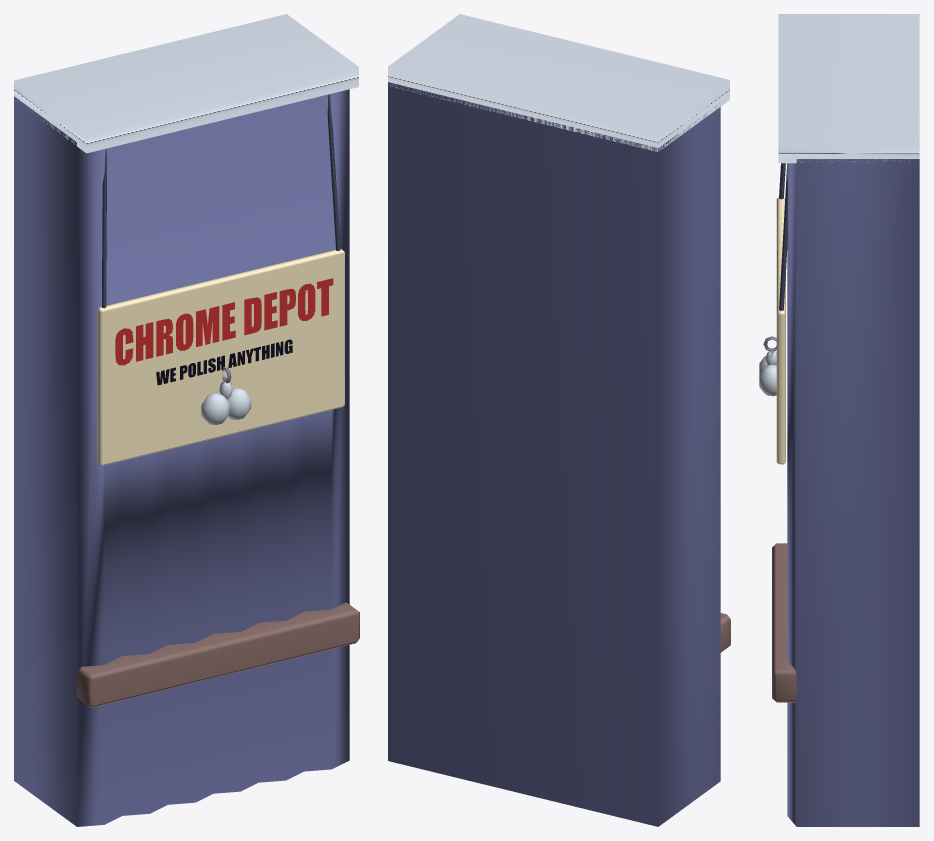
File: wall_barn_banner.glb
The picture shows the model from 3 angles, left to right: view 1: azimuth 30°, elevation 25°; view 2: azimuth 150°, elevation 25°; view 3: azimuth 270°, elevation 25°; orthographic projection. The views are drawn at different scales.
Visible parts, largest first — view 1: Wall; view 2: Wall; view 3: Wall.
Boxes of the visible parts, x1,y1,x2,y2 form: Wall: (14,14,359,826); Wall: (388,14,730,826); Wall: (759,14,919,826).
Bounding box in the file's own units: 1 × 2.46 × 0.5211.
